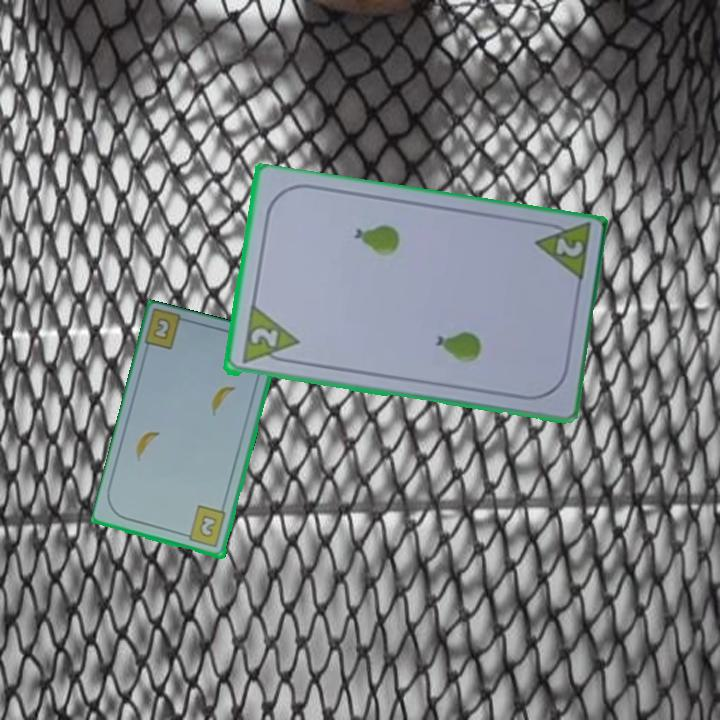2b: (180, 503, 229, 551), (141, 308, 193, 353)
2p: (530, 218, 594, 288), (237, 304, 301, 368)
